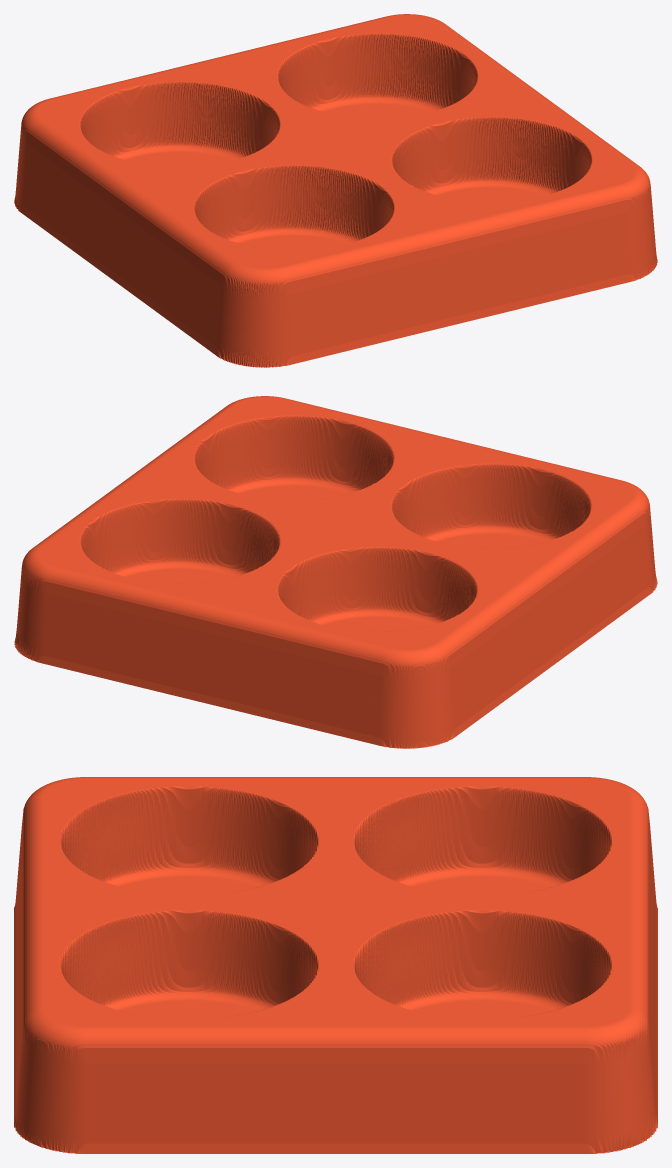
The model's file is mold.glb.
3 renders of one model, top to bottom at view 1: azimuth 30°, elevation 25°; view 2: azimuth 150°, elevation 25°; view 3: azimuth 270°, elevation 25°, orthographic. The views are drawn at different scales.
Parts seen in each view (by area): view 1: geometry_0; view 2: geometry_0; view 3: geometry_0.
Part boxes in pixels (x1,y1,x2,y2): geometry_0: [14, 14, 657, 367]; geometry_0: [14, 396, 657, 748]; geometry_0: [14, 777, 657, 1153].
Size of the model in its own units: 0.0808 by 0.0159 by 0.0808.
